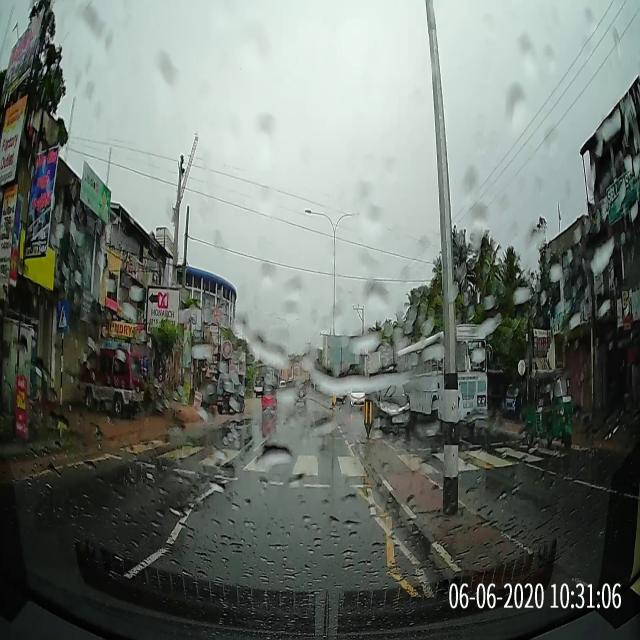Crosswalk: (96, 432, 550, 490)
